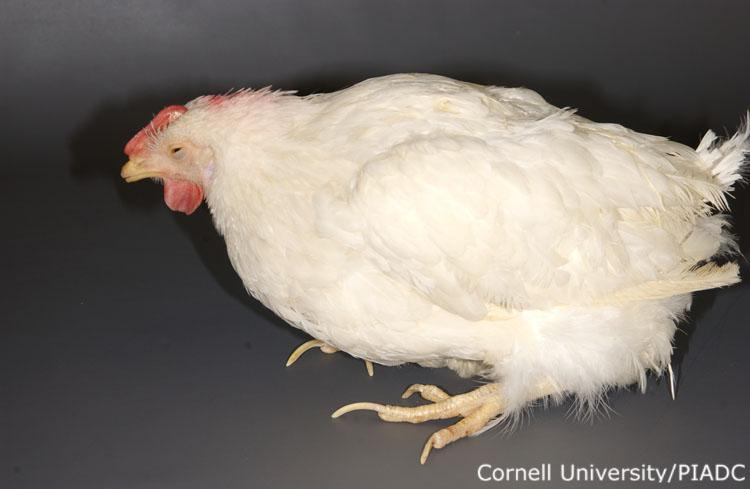AbNormal: (120, 74, 750, 461)
